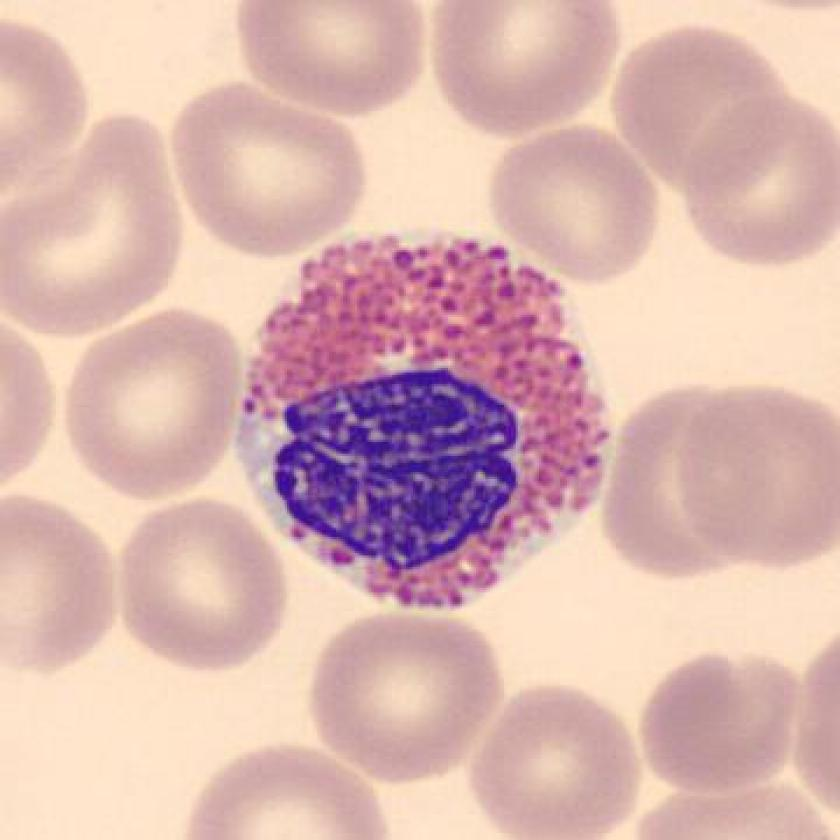eosinophil: (227, 221, 624, 628)
